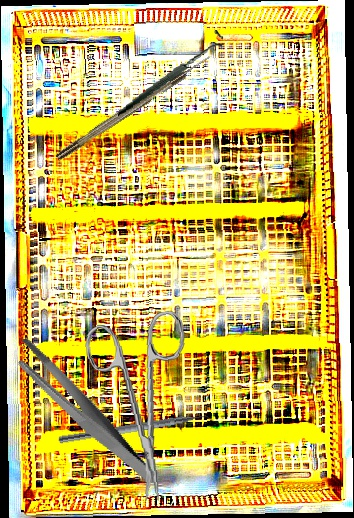Chopper: (57, 407, 222, 455)
Dressing Forceps: (8, 314, 161, 512)
Hook Surgical: (54, 52, 214, 162), (108, 29, 232, 116)
Iris Scissors: (82, 309, 200, 507)
